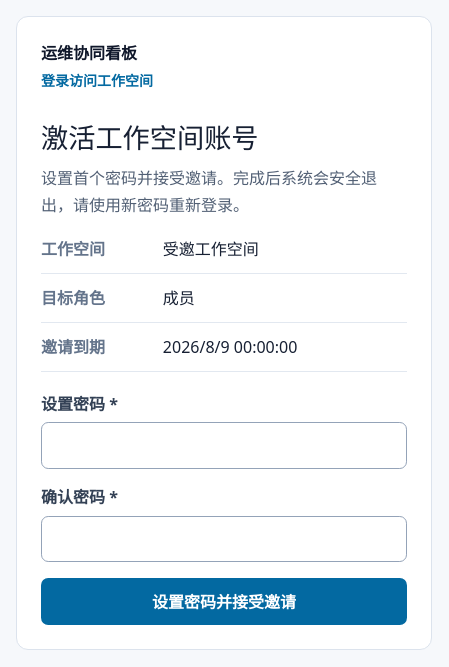
首次受邀账户激活 › 先设置密码，再接受邀请，最后显式本地退出并回到登录页
The image size is (449, 667).
Check: the heading "激活工作空间账号" is shown, box [41, 119, 258, 156]
Type "strong-pass-123" into the password field labelled "设置密码 *".
click(224, 446); type("strong-pass-123")  # box [41, 422, 407, 469]
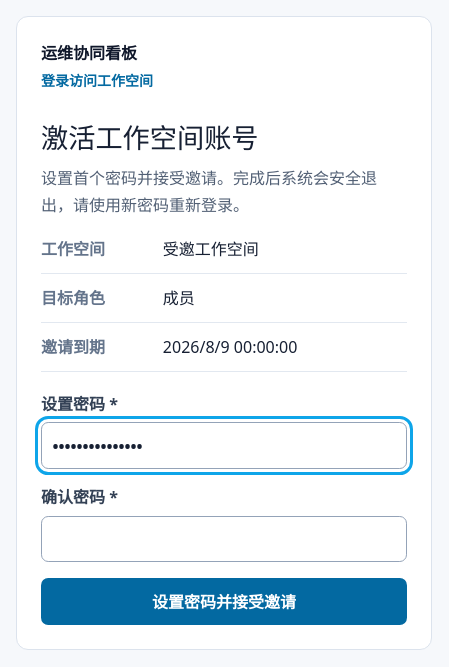
Type "strong-pass-123" into the password field labelled "确认密码 *".
click(224, 539); type("strong-pass-123")  # box [41, 516, 407, 562]
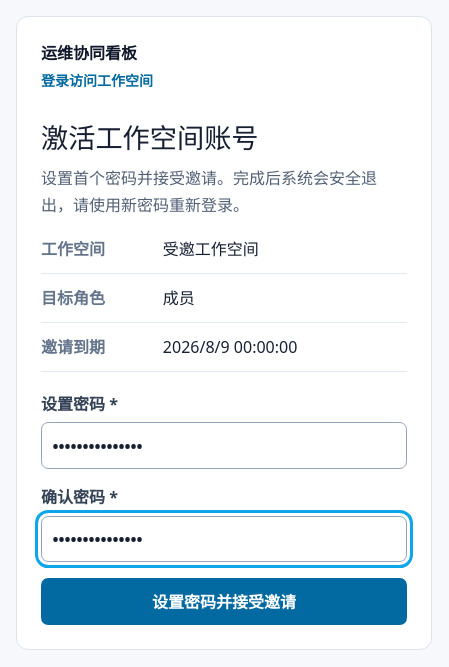
Click the button "设置密码并接受邀请".
click(224, 602)  # box [41, 578, 407, 625]
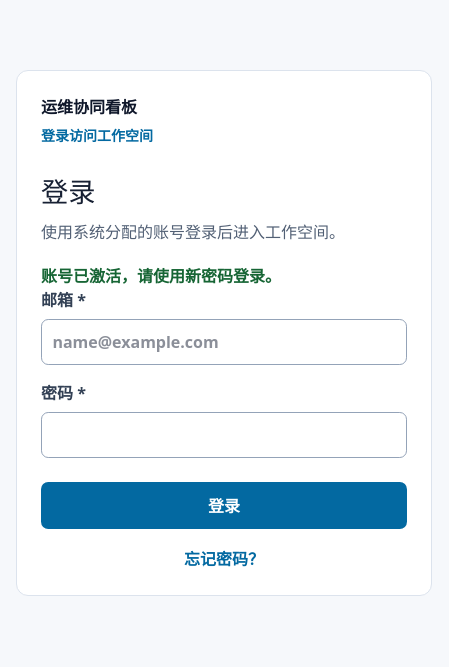
Check: the heading "登录" is shown, box [41, 173, 95, 210]
